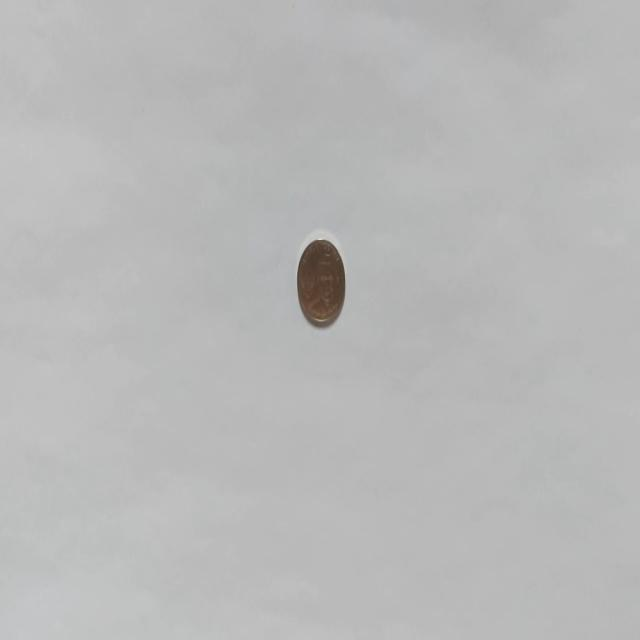seribu rupiah koin: (296, 232, 346, 328)
